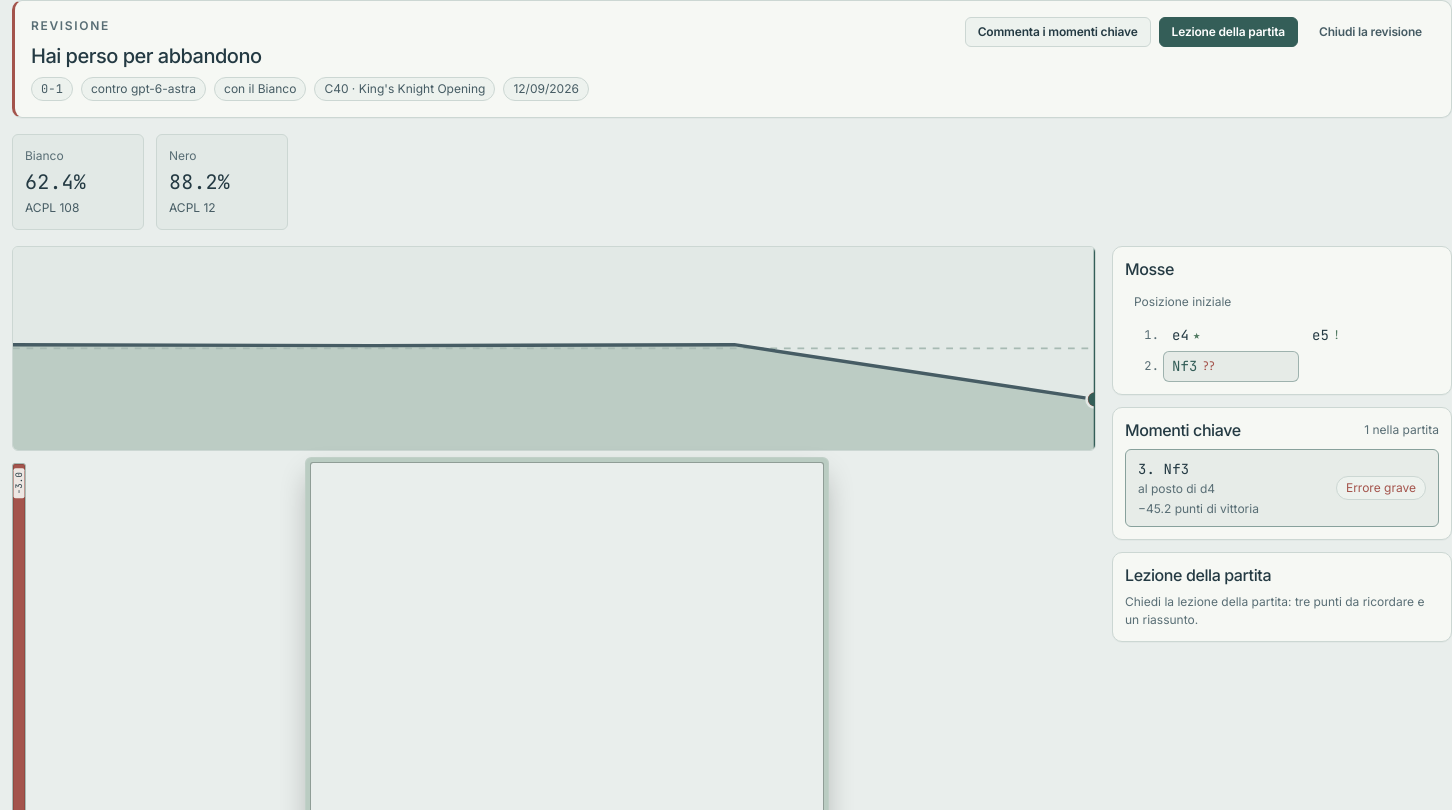
Test: ReviewScreen › writes the lesson of the game with its three takeaways
The width and height of the screenshot is (1452, 810).
Expected: the text "62.4%" is shown, [25,169,86,195]
Click the button "Lezione della partita".
click(1228, 32)  # box [1159,17,1298,47]
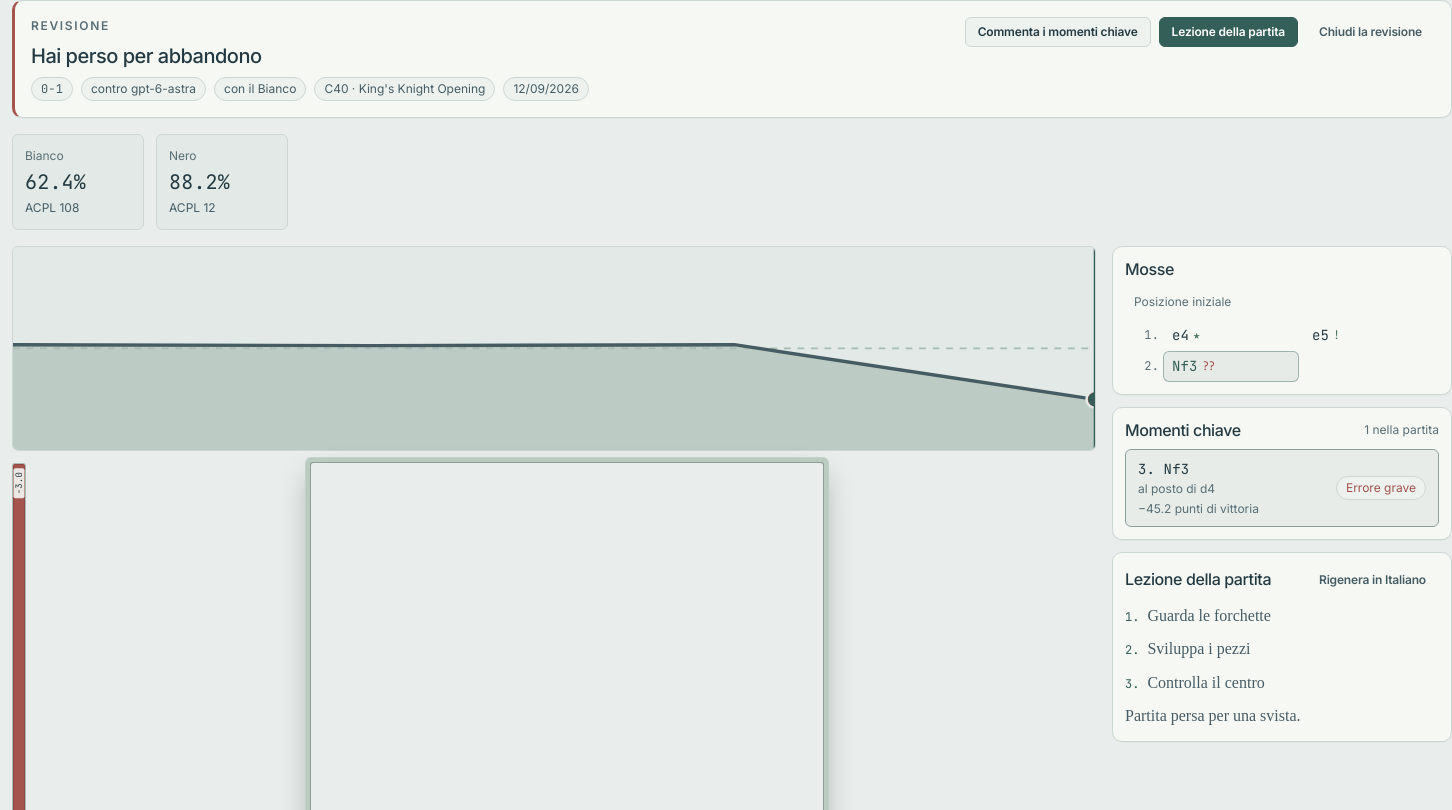
Now the text "Guarda le forchette" is shown, box [1147,603,1271,628]
Now the text "Sviluppa i pezzi" is shown, box [1147,636,1250,662]
Now the text "Controlla il centro" is shown, box [1147,670,1265,695]
